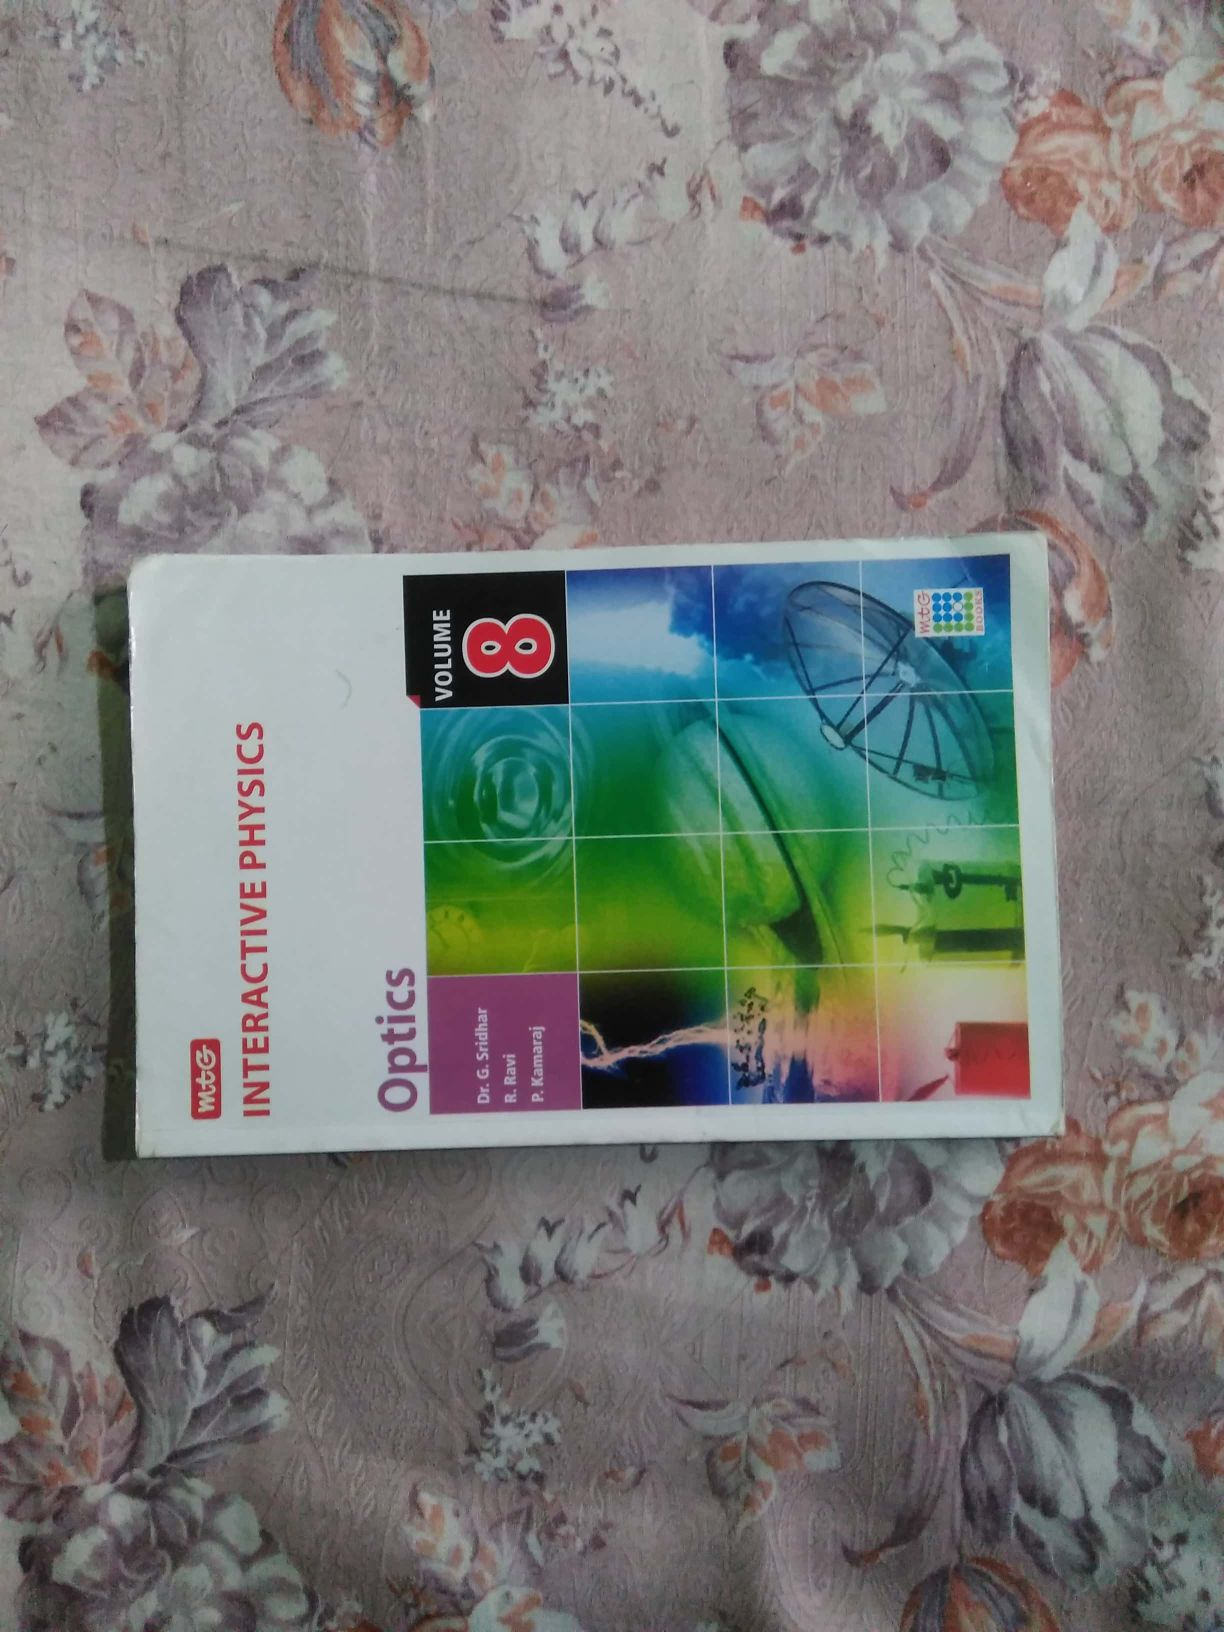optics: (87, 500, 1093, 1261)
